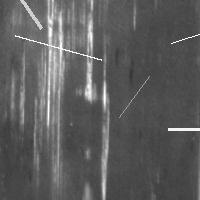scratches: (30, 1, 66, 133), (10, 30, 106, 64), (71, 1, 101, 105), (94, 78, 113, 200), (114, 71, 154, 122), (1, 0, 46, 33), (166, 27, 200, 48), (163, 124, 200, 134)
